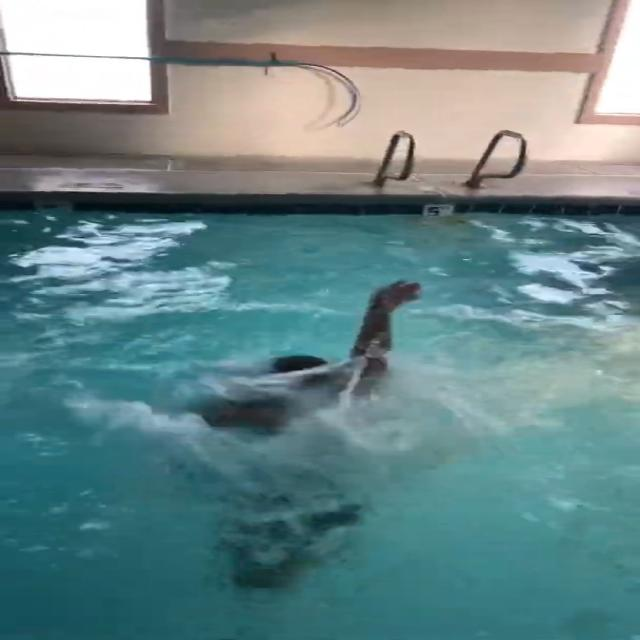Drowning: (154, 274, 431, 600)
